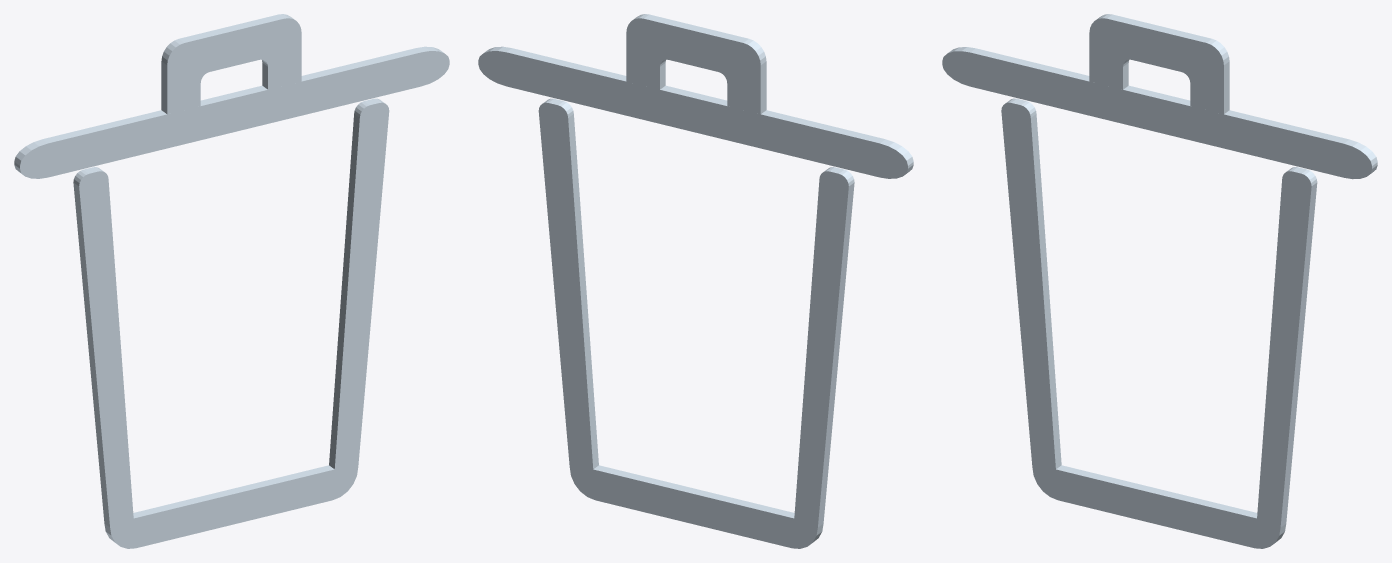
File: Trash_3D_Icon_01.fbx
3 renders of one model, left to right at view 1: azimuth 30°, elevation 25°; view 2: azimuth 150°, elevation 25°; view 3: azimuth 330°, elevation 25°, orthographic.
Visible parts, largest first — view 1: Trash_3D_Icon_01; view 2: Trash_3D_Icon_01; view 3: Trash_3D_Icon_01.
Boxes of the visible parts, left/top/right/bottom form: Trash_3D_Icon_01: left=14, top=14, right=449, bottom=548; Trash_3D_Icon_01: left=478, top=14, right=913, bottom=548; Trash_3D_Icon_01: left=942, top=14, right=1377, bottom=548.
Size of the model in its own units: 83.14 by 91.21 by 1.93.
